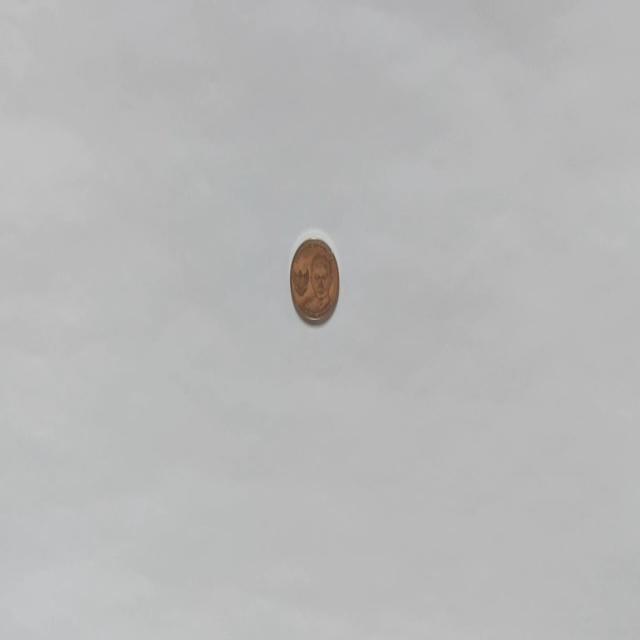seribu rupiah koin: (288, 232, 339, 326)
